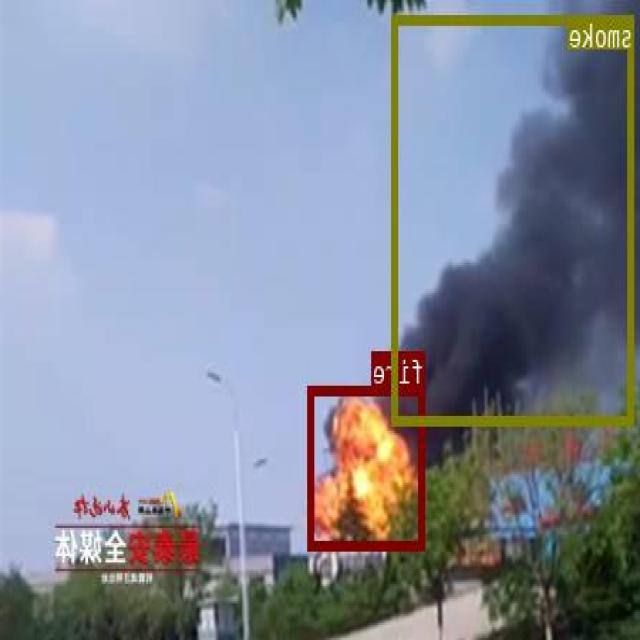fire: (309, 384, 425, 548)
smoke: (393, 14, 635, 422)
